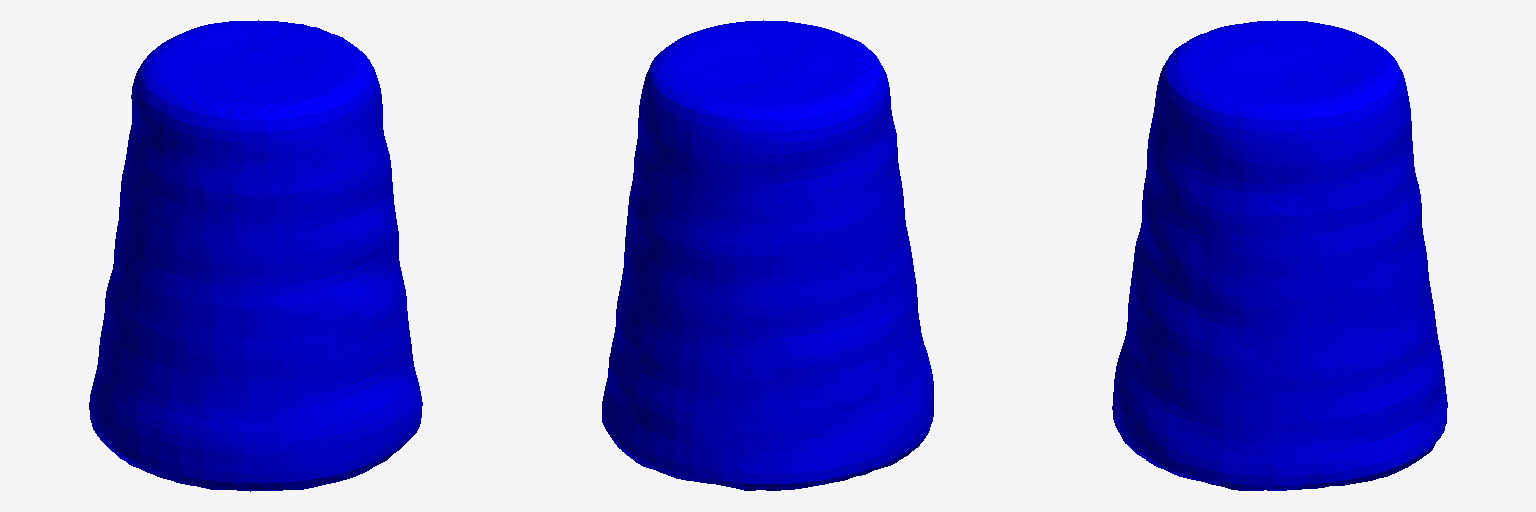
URDF robot description (bluecup.urdf):
<?xml version="0.0" ?>
<robot name="bluecup.urdf">
  <link name="baseLink">
    <contact>
      <friction_anchor/>
      <lateral_friction value="1.0"/>
    </contact>
    <inertial>
      <origin rpy="0 0 0" xyz="0 0 0"/>
       <mass value="1.0"/>
       <inertia ixx="1" ixy="0" ixz="0" iyy="1" iyz="0" izz="1"/>
    </inertial>
    <visual>
      <origin rpy="0 0 0" xyz="0 0 0"/>
      <geometry>
        <mesh filename="bluecup.obj" scale="1 1 1"/>
      </geometry>
       <material name="blue">
        <color rgba="0 0 1 1"/>
      </material>
    </visual>
    <collision>
      <origin rpy="0 0 0" xyz="0 0 0"/>
      <geometry>
        <mesh filename="bluecup.obj" scale="1 1 1"/>
      </geometry>
    </collision>
  </link>
</robot>

--- What the picture shows (computed from the rendered views, not written in the file) ---
3 views of the same robot in one strip: view 1: azimuth 30°, elevation 25°; view 2: azimuth 150°, elevation 25°; view 3: azimuth 270°, elevation 25° (orthographic).
Model bluecup.urdf with 1 links and 0 joints (none), rooted at baseLink, posed all joints at 0.
Visible links, largest first — view 1: baseLink; view 2: baseLink; view 3: baseLink.
Link boxes in pixels (x1,y1,x2,y2): baseLink: (89,20,422,491); baseLink: (602,20,933,490); baseLink: (1112,20,1447,490).
Size in the robot's own frame: 0.0854 by 0.0848 by 0.1027 metres.
Meshes: 1 distinct files referenced, 1 mesh visuals loaded (1 OBJ).